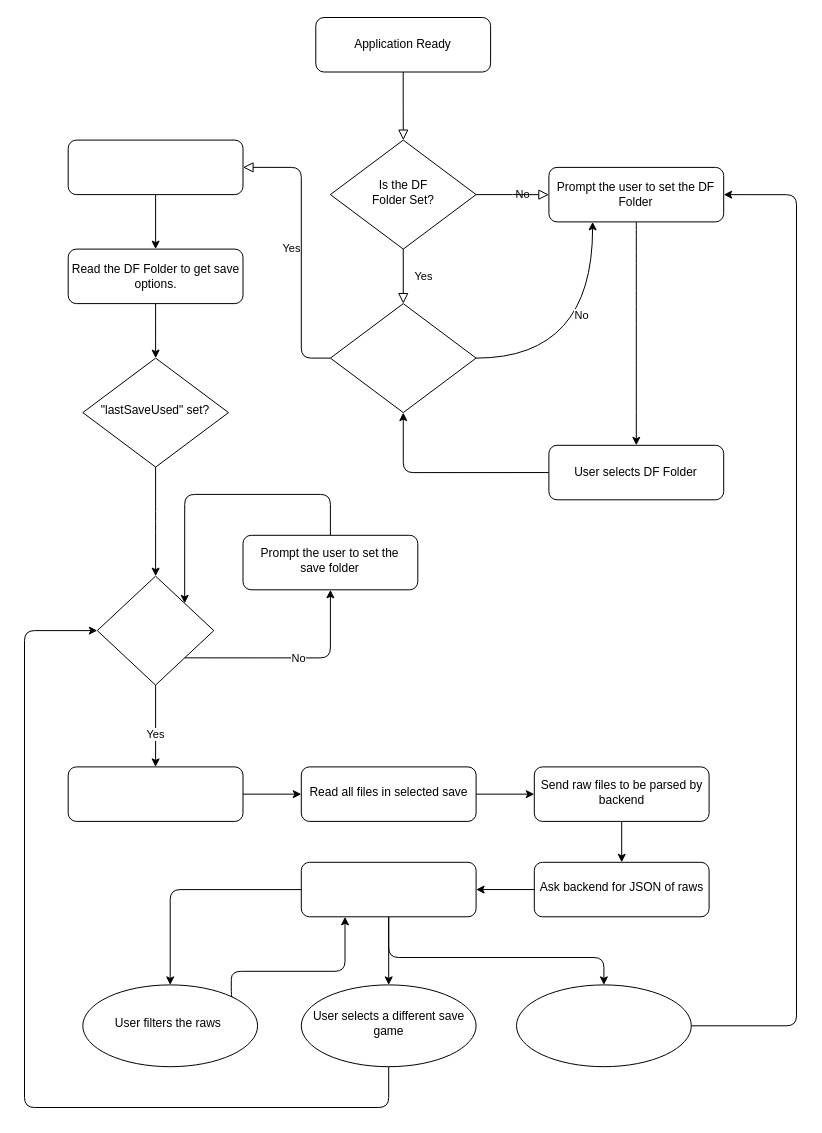
Image size: 822x1133. Some labels were removed from this diagram. The shapes that lost their labels are listed below. From the top down, each one's box as (x1, y1, x2, y2) in pixels, then its label:
(67, 139, 243, 195): Save DF Folder to settings.json
(329, 303, 476, 413): Is the DF Folder Valid?
(96, 575, 214, 685): Is the save folder valid?
(67, 766, 243, 821): Save save folder to settings.json
(300, 861, 476, 917): Display raws in frontend
(516, 984, 691, 1067): Use clicks "Change DF Directory"
